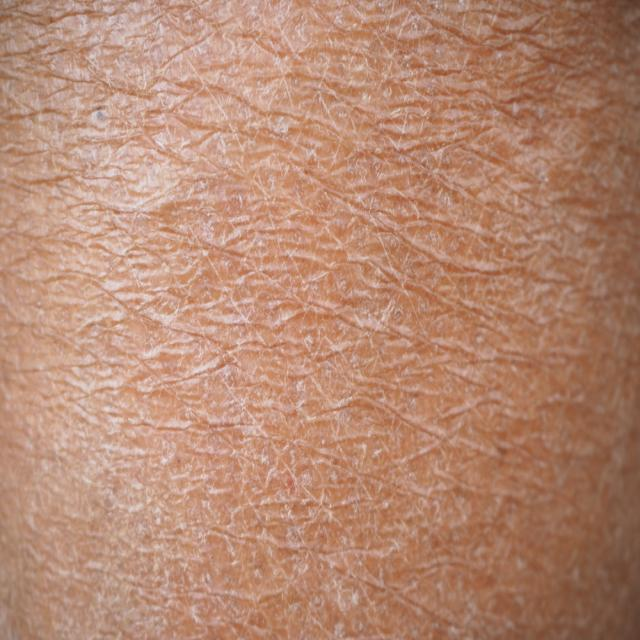Dry-Skin: (46, 89, 512, 541)
